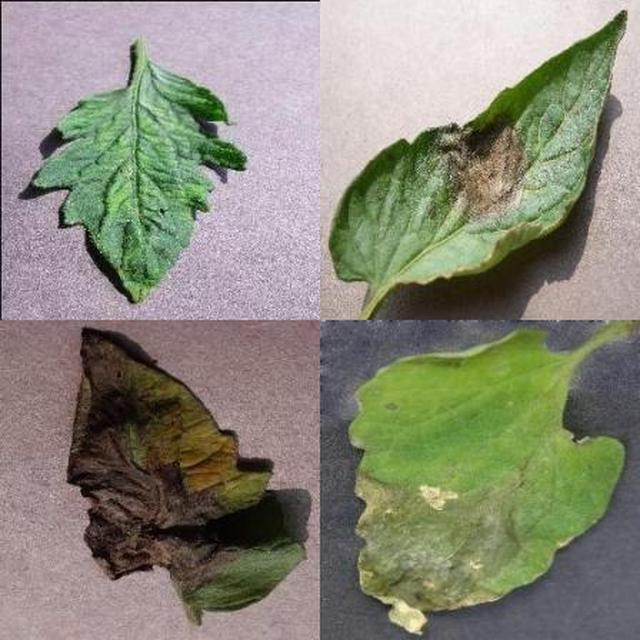Mosaic Virus Leaf: (200, 214, 640, 640)
